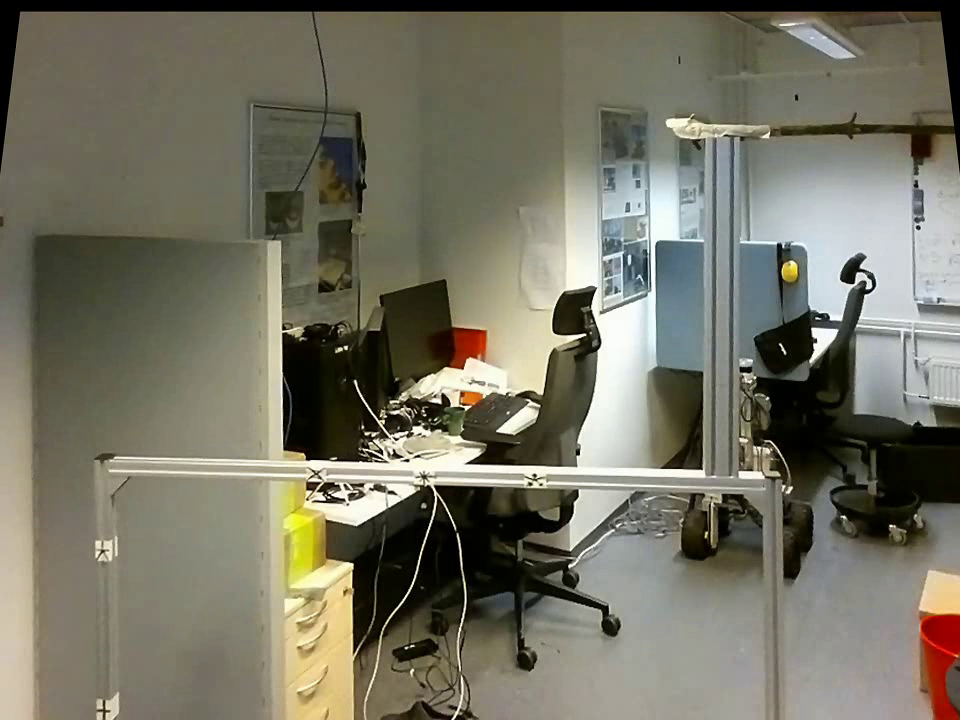aluminum_frame: (109, 448, 787, 493), (701, 135, 746, 475), (757, 465, 792, 717), (89, 453, 121, 717), (905, 111, 920, 304), (908, 289, 958, 310)
branch: (780, 103, 949, 141)
